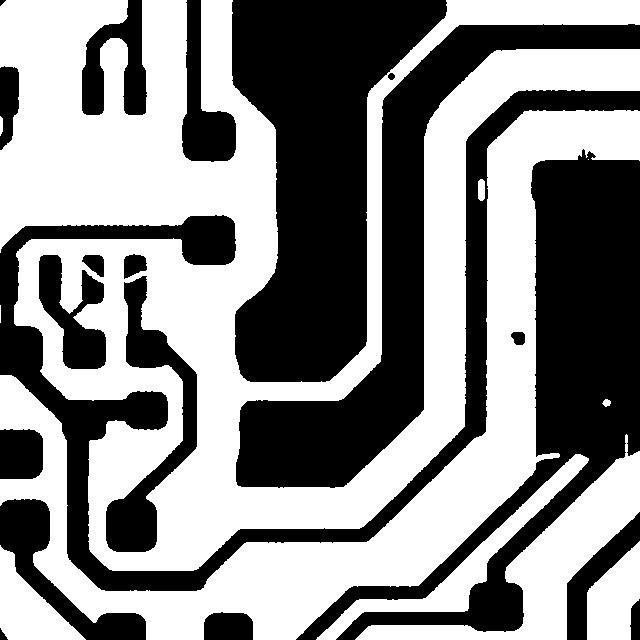copper: (501, 322, 534, 354), (378, 63, 404, 89)
mousebite: (523, 443, 569, 472), (615, 424, 637, 469)
open: (70, 252, 117, 294), (114, 260, 161, 292)
pin-hole: (468, 169, 494, 210)
short: (60, 288, 97, 326)
spur: (568, 139, 605, 177)
